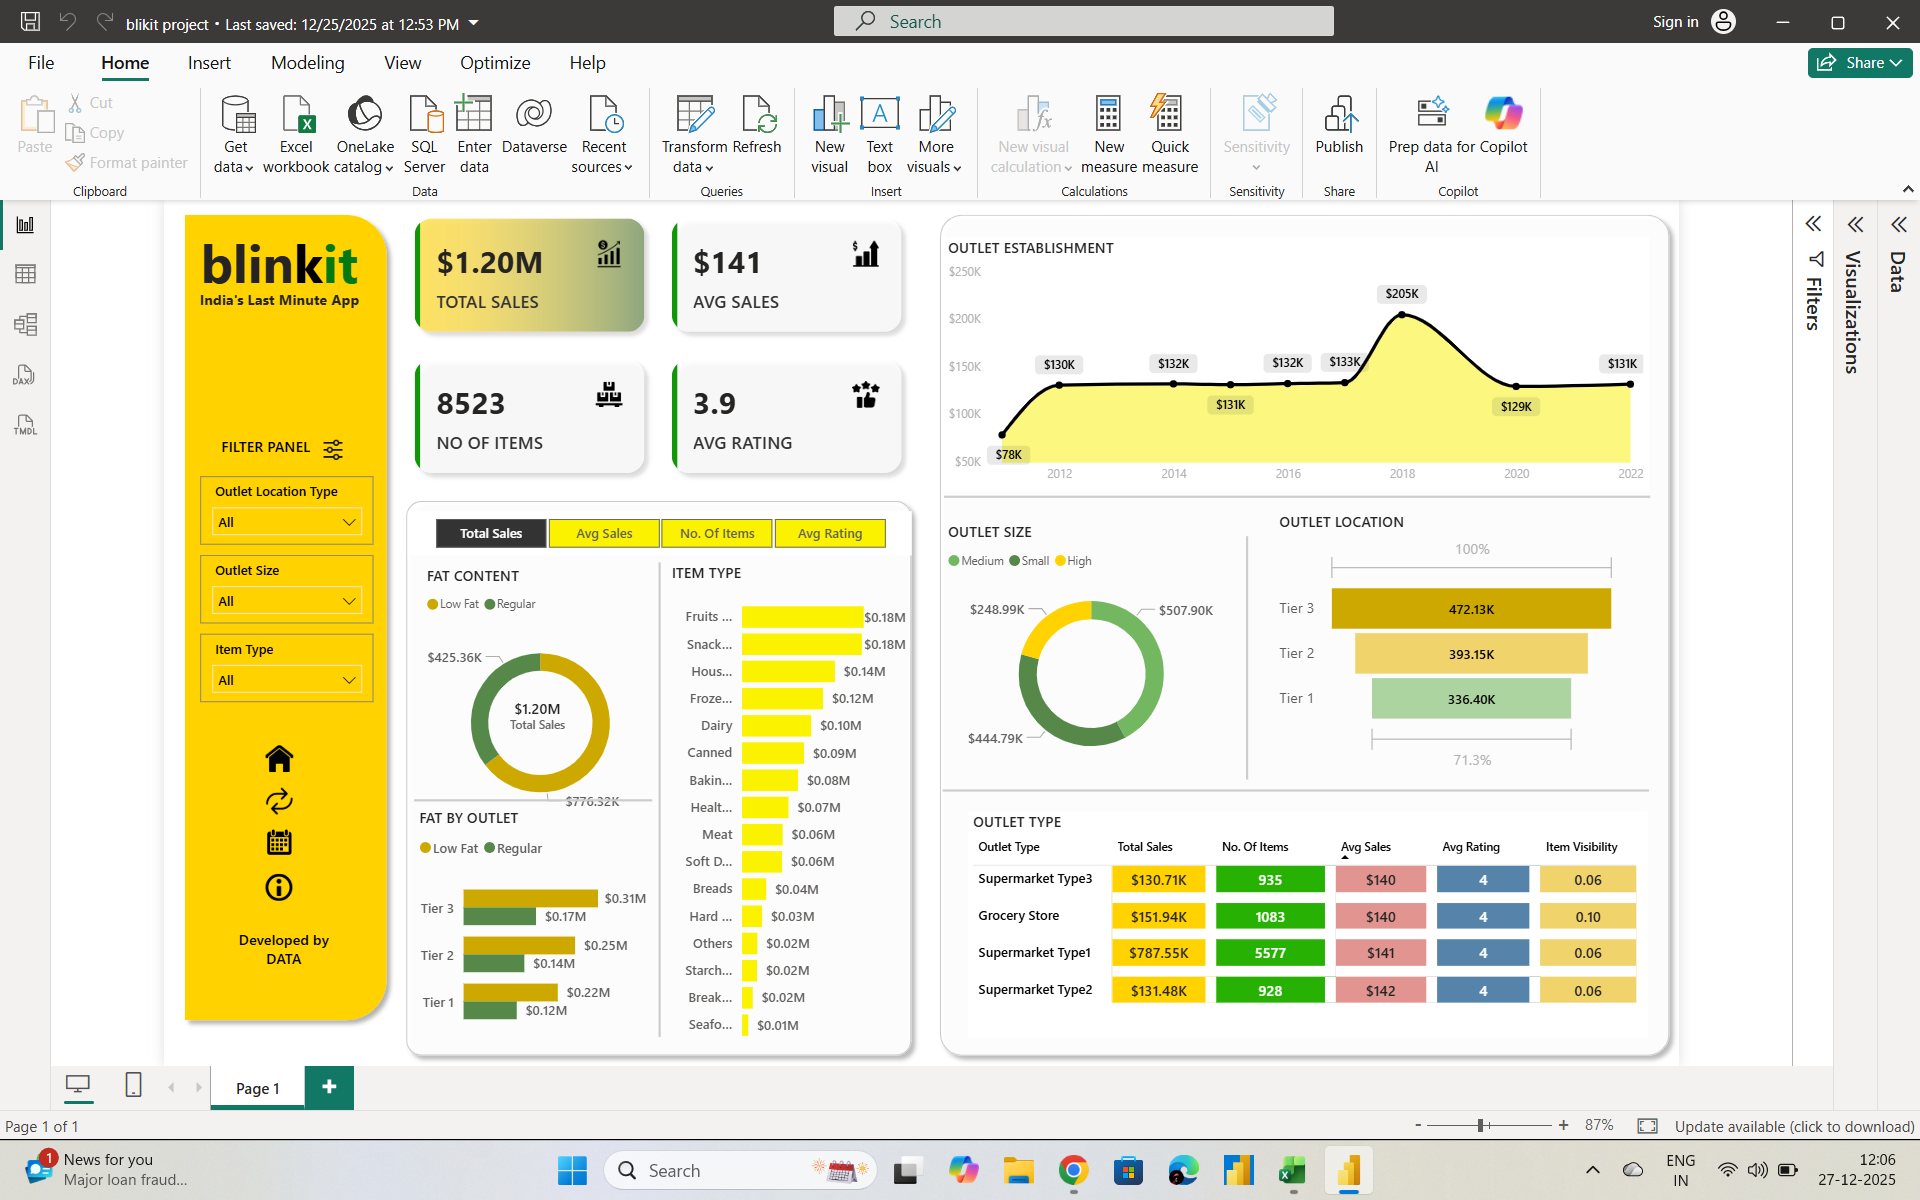

What the dashboard file says about the page in this screenshot:
{"tool":"powerbi","page":{"name":"Page 1","canvas":[1400,800],"ordinal":0},"visuals":[{"type":"shape","box":[10.4,4.6,204.4,762.1],"z":0},{"type":"textbox","box":[29.3,19.1,164.1,75],"z":1000},{"type":"textbox","box":[19.1,77.6,174.2,33.1],"z":2000},{"type":"cardVisual","fields":{"Data":["BlinkIT Grocery Data.Total Sales","BlinkIT Grocery Data.Avg Sales","BlinkIT Grocery Data.No. Of Items","BlinkIT Grocery Data.Avg Rating"]},"box":[214.9,0,484.6,269.6],"z":3000},{"type":"shape","box":[214.9,269.6,484.6,530.3],"z":4000},{"type":"donutChart","title":"FAT CONTENT","fields":{"Y":["BlinkIT Grocery Data.Total Sales"],"Category":["BlinkIT Grocery Data.Item Fat Content"]},"box":[237.8,337,220,246.7],"z":5000},{"type":"slicer","fields":{"Values":["Merics.Merics"]},"box":[225.1,287.4,465.5,40.7],"z":6000},{"type":"cardVisual","fields":{"Data":["BlinkIT Grocery Data.Total Sales"]},"box":[295.1,443.9,99.2,57.2],"z":7000},{"type":"clusteredBarChart","title":"FAT BY OUTLET","fields":{"Y":["BlinkIT Grocery Data.Total Sales"],"Category":["BlinkIT Grocery Data.Outlet Location Type"],"Series":["BlinkIT Grocery Data.Item Fat Content"]},"box":[231.5,560.9,220,220],"z":8000},{"type":"shape","box":[231.5,545.6,220,19.1],"z":9000},{"type":"shape","box":[451.5,334.5,12.7,438.8],"z":10000},{"type":"barChart","title":"ITEM TYPE","fields":{"Y":["BlinkIT Grocery Data.Total Sales"],"Category":["BlinkIT Grocery Data.Item Type"]},"box":[464.2,334.5,226.4,452.8],"z":11000},{"type":"shape","box":[708.4,5.1,691.9,794.9],"z":12000},{"type":"lineChart","title":"OUTLET ESTABLISHMENT","fields":{"Y":["BlinkIT Grocery Data.Total Sales"],"Category":["BlinkIT Grocery Data.Outlet Establishment Year"]},"box":[719.8,34.3,652.4,235.3],"z":13000},{"type":"shape","box":[721.1,269.6,652.4,10.2],"z":14000},{"type":"donutChart","title":"OUTLET SIZE","fields":{"Y":["BlinkIT Grocery Data.Total Sales"],"Category":["BlinkIT Grocery Data.Outlet Size"]},"box":[719.8,296.3,274.7,236.6],"z":15000},{"type":"shape","box":[994.6,310.3,12.7,225.1],"z":16000},{"type":"funnel","title":"OUTLET LOCATION","fields":{"Y":["Sum(BlinkIT Grocery Data.Sales)"],"Category":["BlinkIT Grocery Data.Outlet Location Type"]},"box":[1025.1,287.4,321.8,245.5],"z":17000},{"type":"shape","box":[719.8,540.5,652.4,10.2],"z":18000},{"type":"pivotTable","title":"OUTLET TYPE","fields":{"Rows":["BlinkIT Grocery Data.Outlet Type"],"Values":["BlinkIT Grocery Data.Total Sales","BlinkIT Grocery Data.No. Of Items","BlinkIT Grocery Data.Avg Sales","BlinkIT Grocery Data.Avg Rating","Avg(BlinkIT Grocery Data.Item Visibility)"]},"box":[742.7,564.7,628.3,208.6],"z":19000},{"type":"slicer","fields":{"Values":["BlinkIT Grocery Data.Outlet Location Type"]},"box":[33.1,255.6,160.2,63.6],"z":20000},{"type":"slicer","fields":{"Values":["BlinkIT Grocery Data.Outlet Size"]},"box":[33.1,328.1,160.2,63.6],"z":21000},{"type":"slicer","fields":{"Values":["BlinkIT Grocery Data.Item Type"]},"box":[33.1,400.6,160.2,63.6],"z":22000},{"type":"textbox","box":[33.1,213.7,123.4,30.5],"z":23000},{"type":"image","box":[139.9,213.7,33.1,34.3],"z":24000},{"type":"image","box":[86.5,536.7,39.4,36.9],"z":25000},{"type":"image","box":[86.5,498.5,39.4,34.3],"z":26000},{"type":"image","box":[78.9,560.9,56,63.6],"z":27000},{"type":"image","box":[86.5,618.1,39.4,34.3],"z":28000},{"type":"textbox","box":[48.3,669,124.6,52.1],"z":29000}]}

Visuals, with their boxes on the page's 1400x800 design canvas (x1, y1, x2, y2). These are canvas units, not pixel positions in the 1920x1200 screenshot, which may show the page scaled, cropped or inside an application window:
shape: {"left": 10, "top": 5, "right": 215, "bottom": 767}
textbox: {"left": 29, "top": 19, "right": 193, "bottom": 94}
textbox: {"left": 19, "top": 78, "right": 193, "bottom": 111}
cardVisual - BlinkIT Grocery Data.Total Sales x BlinkIT Grocery Data.Avg Sales: {"left": 215, "top": 0, "right": 700, "bottom": 270}
shape: {"left": 215, "top": 270, "right": 700, "bottom": 800}
"FAT CONTENT" donutChart: {"left": 238, "top": 337, "right": 458, "bottom": 584}
slicer - Merics.Merics: {"left": 225, "top": 287, "right": 691, "bottom": 328}
cardVisual - BlinkIT Grocery Data.Total Sales: {"left": 295, "top": 444, "right": 394, "bottom": 501}
"FAT BY OUTLET" clusteredBarChart: {"left": 232, "top": 561, "right": 452, "bottom": 781}
shape: {"left": 232, "top": 546, "right": 452, "bottom": 565}
shape: {"left": 452, "top": 334, "right": 464, "bottom": 773}
"ITEM TYPE" barChart: {"left": 464, "top": 334, "right": 691, "bottom": 787}
shape: {"left": 708, "top": 5, "right": 1400, "bottom": 800}
"OUTLET ESTABLISHMENT" lineChart: {"left": 720, "top": 34, "right": 1372, "bottom": 270}
shape: {"left": 721, "top": 270, "right": 1374, "bottom": 280}
"OUTLET SIZE" donutChart: {"left": 720, "top": 296, "right": 994, "bottom": 533}
shape: {"left": 995, "top": 310, "right": 1007, "bottom": 535}
"OUTLET LOCATION" funnel: {"left": 1025, "top": 287, "right": 1347, "bottom": 533}
shape: {"left": 720, "top": 540, "right": 1372, "bottom": 551}
"OUTLET TYPE" pivotTable: {"left": 743, "top": 565, "right": 1371, "bottom": 773}
slicer - BlinkIT Grocery Data.Outlet Location Type: {"left": 33, "top": 256, "right": 193, "bottom": 319}
slicer - BlinkIT Grocery Data.Outlet Size: {"left": 33, "top": 328, "right": 193, "bottom": 392}
slicer - BlinkIT Grocery Data.Item Type: {"left": 33, "top": 401, "right": 193, "bottom": 464}
textbox: {"left": 33, "top": 214, "right": 156, "bottom": 244}
image: {"left": 140, "top": 214, "right": 173, "bottom": 248}
image: {"left": 86, "top": 537, "right": 126, "bottom": 574}
image: {"left": 86, "top": 498, "right": 126, "bottom": 533}
image: {"left": 79, "top": 561, "right": 135, "bottom": 624}
image: {"left": 86, "top": 618, "right": 126, "bottom": 652}
textbox: {"left": 48, "top": 669, "right": 173, "bottom": 721}
